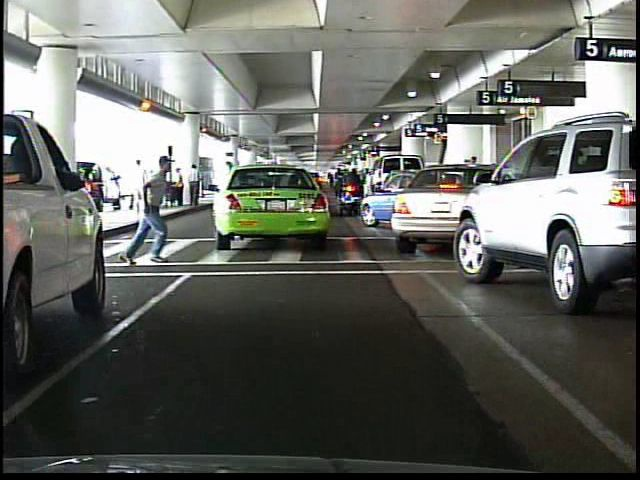person: (127, 153, 179, 271)
